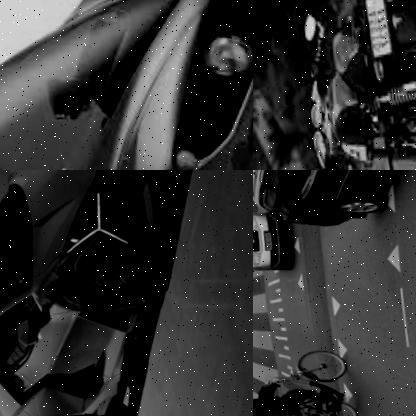bike: (288, 0, 416, 170)
car: (0, 170, 188, 416), (253, 170, 416, 245), (253, 204, 280, 274)
